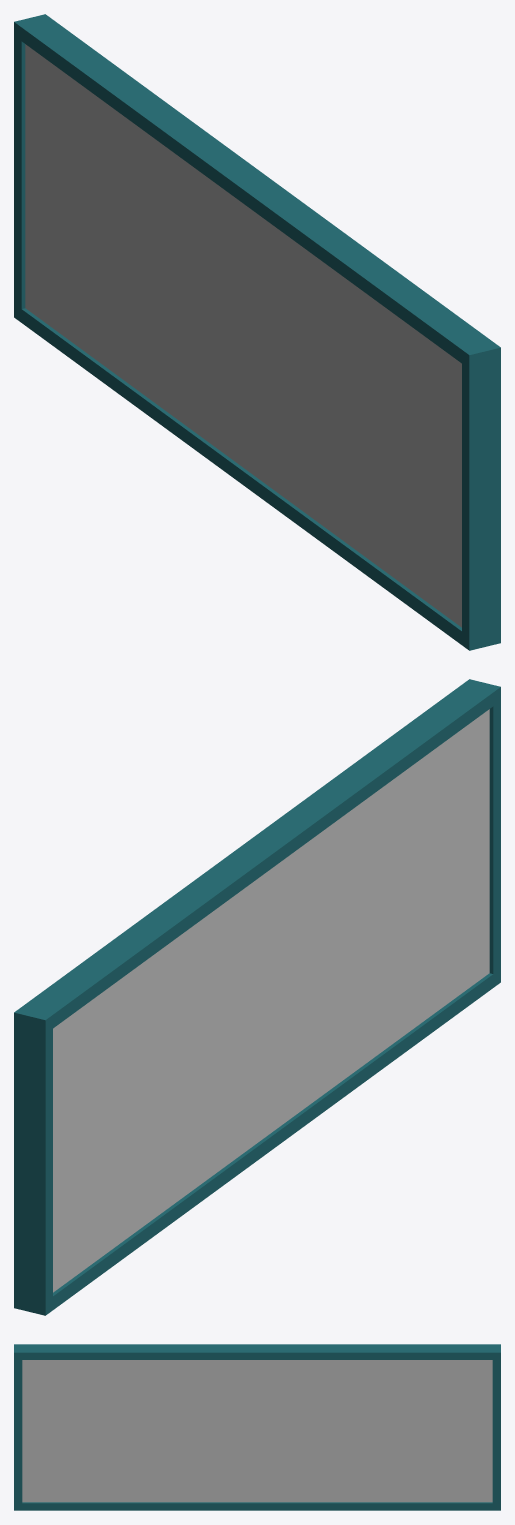
The model's file is Sign_TownOffice.fbx.
3 views of the same model, one above another, from view 1: azimuth 30°, elevation 25°; view 2: azimuth 150°, elevation 25°; view 3: azimuth 270°, elevation 25° (orthographic). The views are drawn at different scales.
Visible parts, largest first — view 1: Cube.472; view 2: Cube.472; view 3: Cube.472.
Part boxes in pixels (bbox=[...]): Cube.472: bbox=[14, 14, 500, 650]; Cube.472: bbox=[14, 679, 500, 1315]; Cube.472: bbox=[14, 1344, 500, 1510].
Bounding box in the file's own units: 8.91 × 79.87 × 223.
